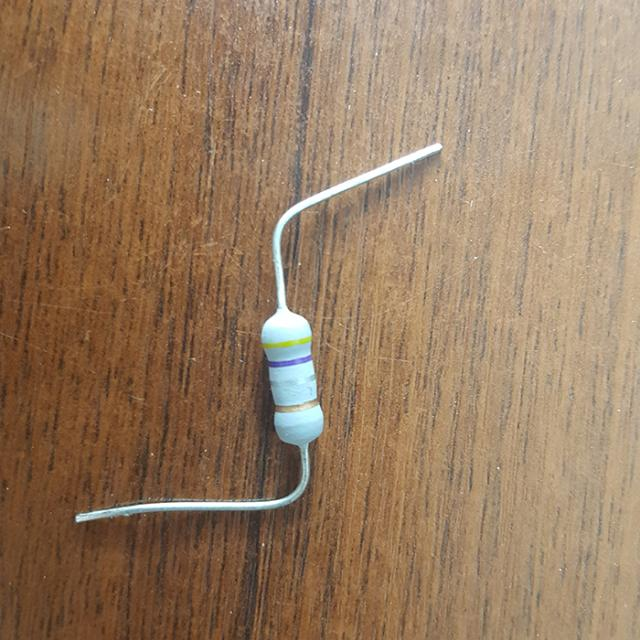Capacitor Electrolitico: (257, 313, 332, 445)
